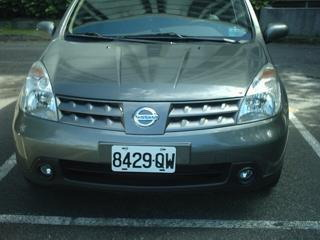plate: (110, 143, 177, 176)
